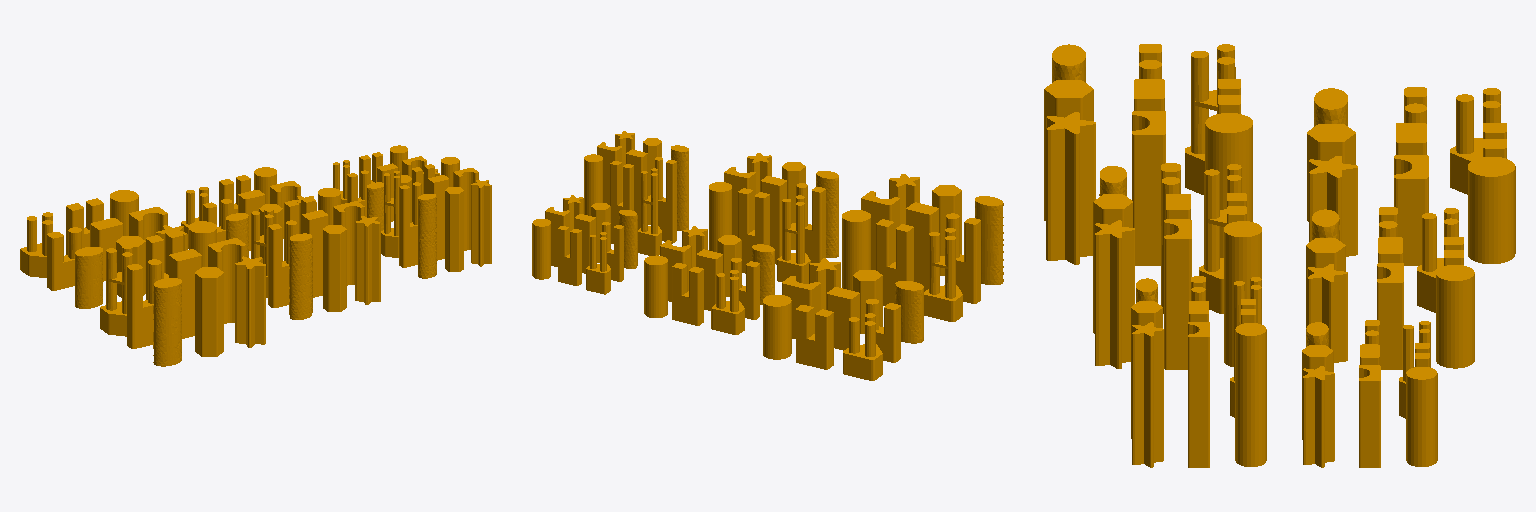
URDF robot description (fmb_assembly_obj):
<?xml version="1.0"?>
<robot name="fmb_assembly_obj">
    <link name="fmb_assembly_obj">
        <visual>
            <geometry>
                <mesh filename="../mesh/factory_insertion/fmb_assembly_obj.obj" scale="0.001 0.001 0.001"/>
            </geometry>
        </visual>
        <collision>
            <geometry>
                <mesh filename="../mesh/factory_insertion/fmb_assembly_obj.obj" scale="0.001 0.001 0.001"/>
            </geometry>
            <sdf resolution="512"/>
        </collision>
    </link>
</robot>

--- What the picture shows (computed from the rendered views, not written in the file) ---
Views: 3 orthographic renders of the robot side by side, from view 1: azimuth 30°, elevation 25°; view 2: azimuth 150°, elevation 25°; view 3: azimuth 270°, elevation 25°.
Model fmb_assembly_obj with 1 links and 0 joints (none), rooted at fmb_assembly_obj, posed all joints at 0.
Links seen in each view (by area): view 1: fmb_assembly_obj; view 2: fmb_assembly_obj; view 3: fmb_assembly_obj.
Link boxes in pixels (x1,y1,x2,y2): fmb_assembly_obj: [20, 145, 491, 366]; fmb_assembly_obj: [532, 131, 1003, 380]; fmb_assembly_obj: [1044, 44, 1515, 467].
Bounding box of the posed robot: 0.7254 × 0.4881 × 0.15 m (x, y, z).
1 mesh visuals loaded from 1 distinct referenced files (1 OBJ).
